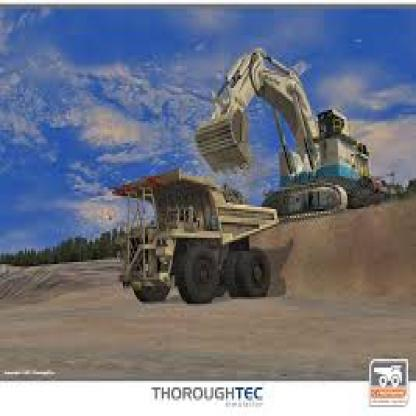dump_truck: (104, 154, 290, 328)
excavator: (189, 42, 394, 231)
